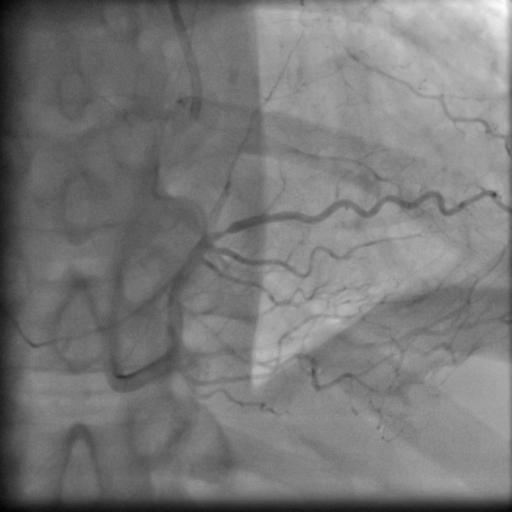Stenosis: (210, 225, 236, 242)
